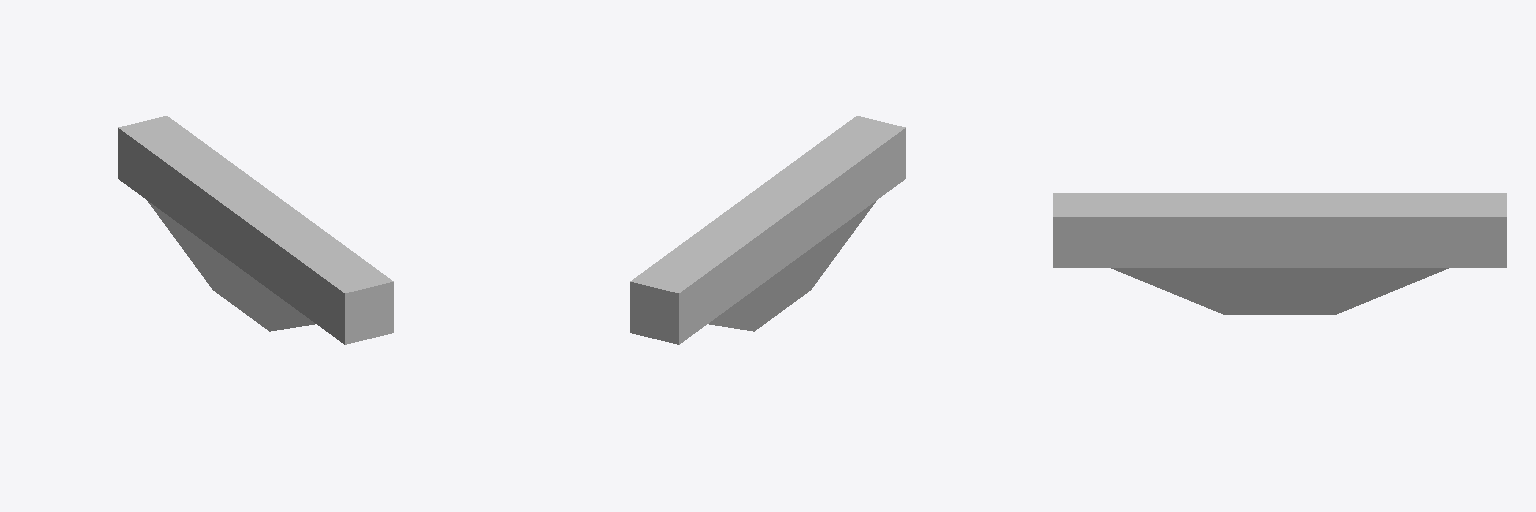
The model's file is doorstiny up.obj.
3 views of the same model, side by side, from view 1: azimuth 30°, elevation 25°; view 2: azimuth 150°, elevation 25°; view 3: azimuth 270°, elevation 25° (orthographic).
Parts seen in each view (by area): view 1: Cube; view 2: Cube; view 3: Cube.
Boxes of the visible parts, x1,y1,x2,y2 form: Cube: [118, 116, 393, 344]; Cube: [630, 116, 905, 344]; Cube: [1053, 193, 1506, 314].
Size of the model in its own units: 1 by 2 by 8.